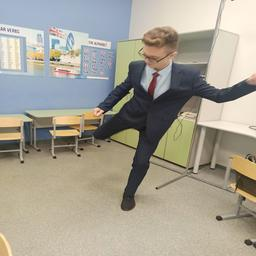person: (93, 26, 256, 211)
